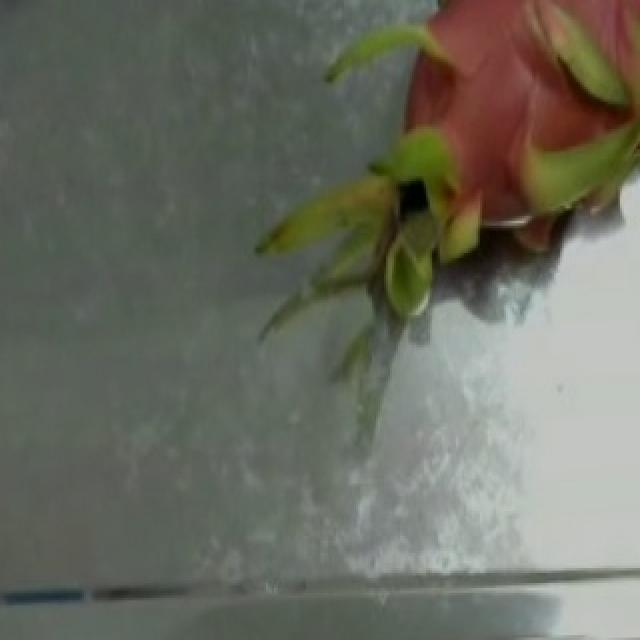fruit: (252, 0, 640, 360)
